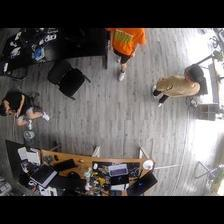normal: (148, 59, 203, 108), (107, 27, 146, 82)
